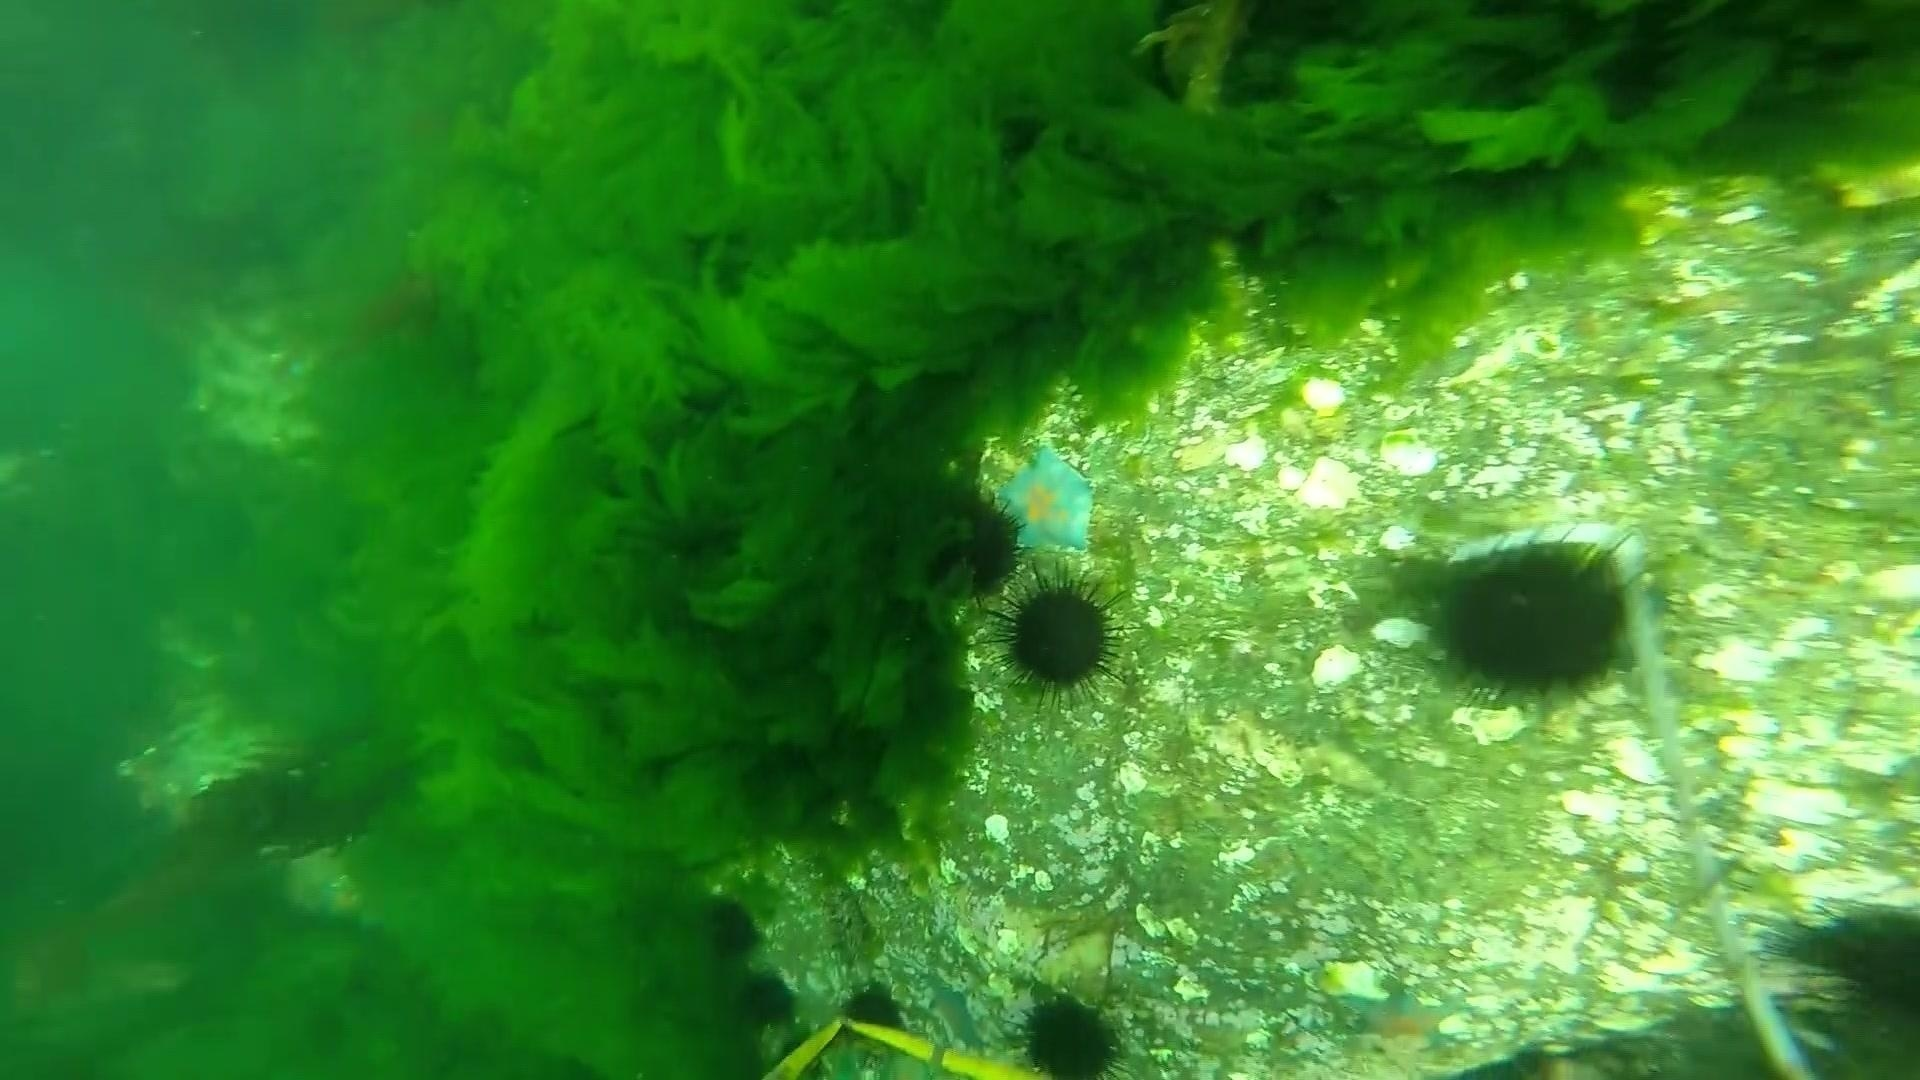echinus: (1422, 533, 1642, 709), (1745, 893, 1917, 1073), (990, 571, 1127, 703), (1010, 990, 1127, 1076), (942, 485, 1025, 589), (833, 976, 914, 1047), (695, 893, 767, 967), (727, 967, 802, 1033)
starfish: (984, 440, 1104, 562), (1350, 986, 1460, 1048)
